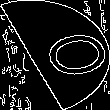O_SW: (11, 25, 99, 85)
